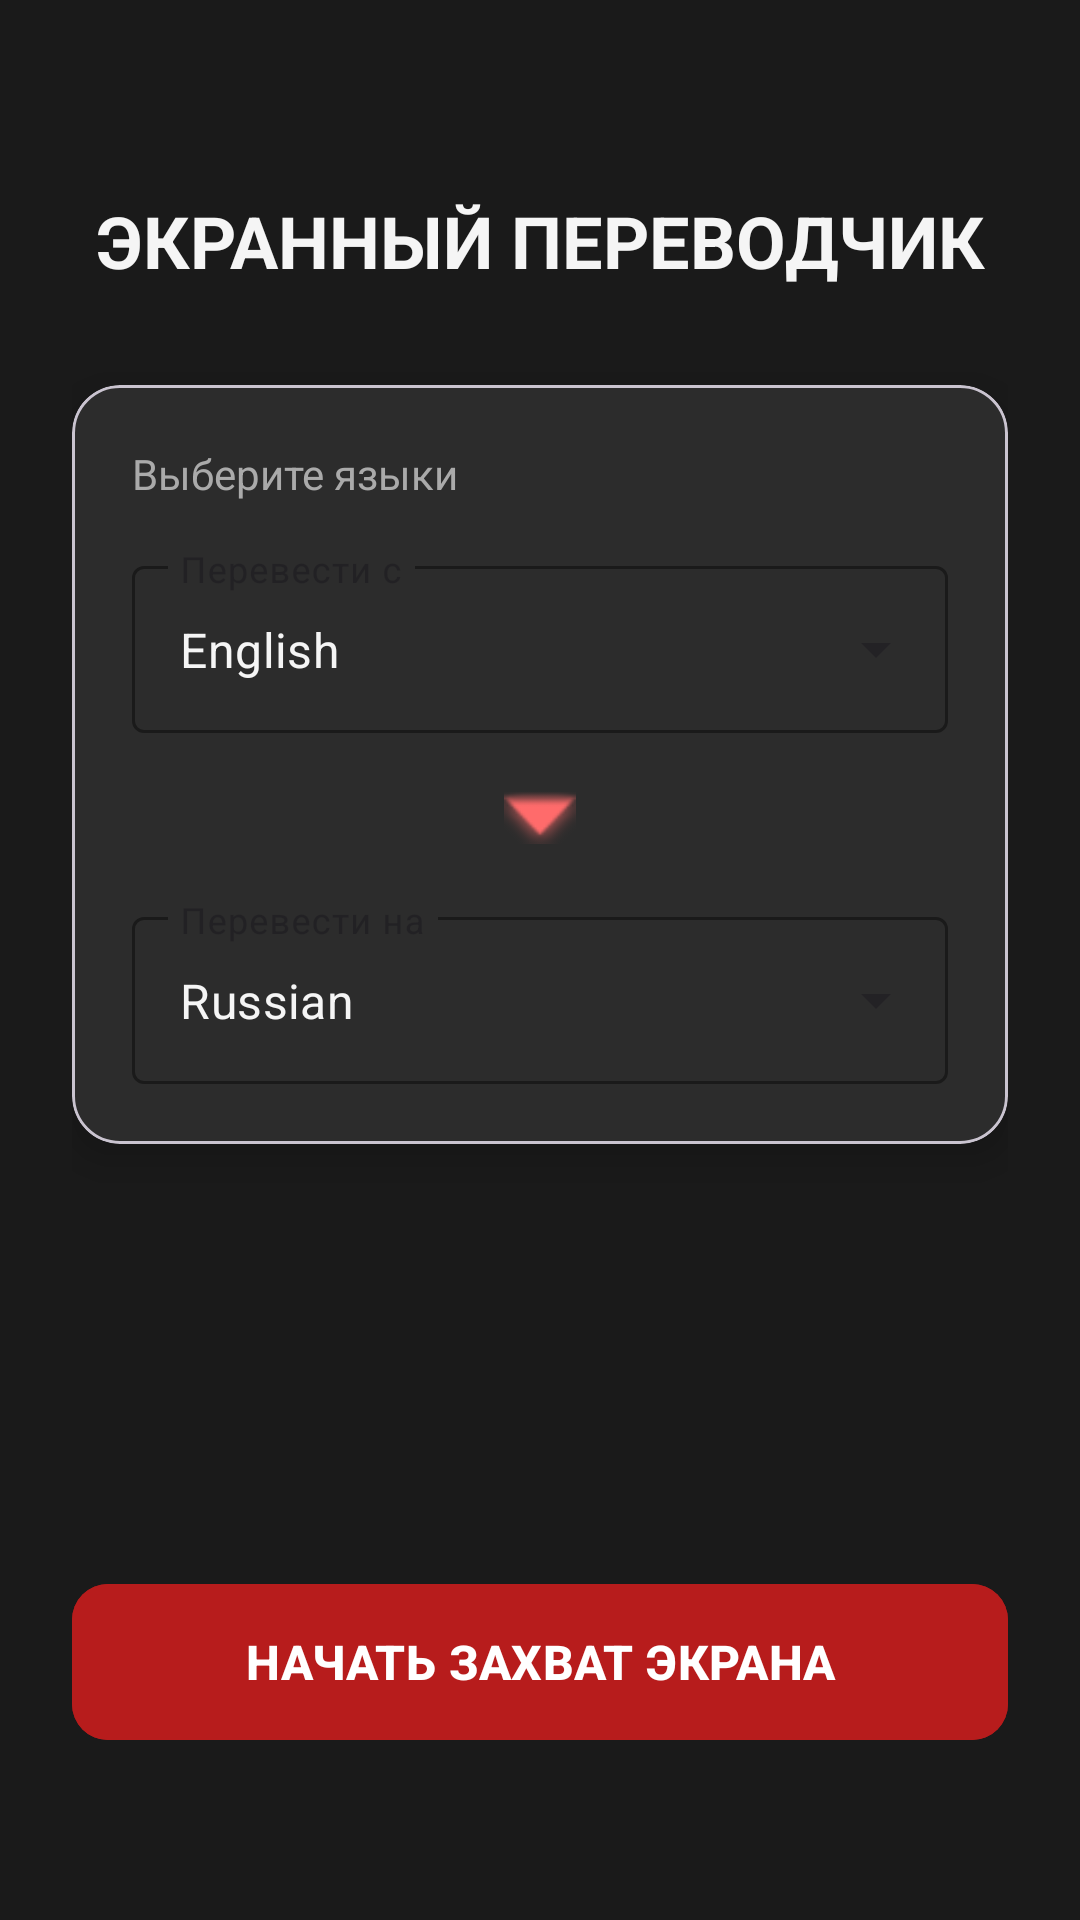

Locate icon controls on the screen. Image size 1080*1920, boxes as rect(x1, y1, x2, y2).
arrow down float: rect(504, 794, 576, 841)
